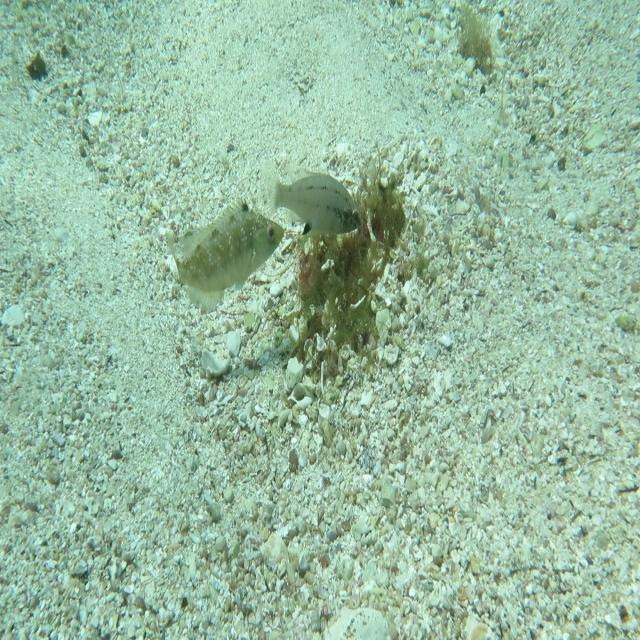GB: (166, 192, 286, 317)
core_nest: (339, 195, 398, 234)
female: (260, 155, 365, 243)
nest: (286, 153, 415, 389)
